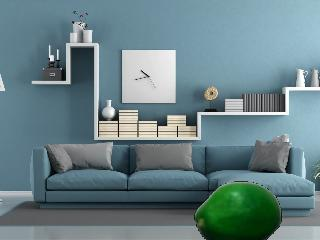lime: (194, 182, 281, 240)
